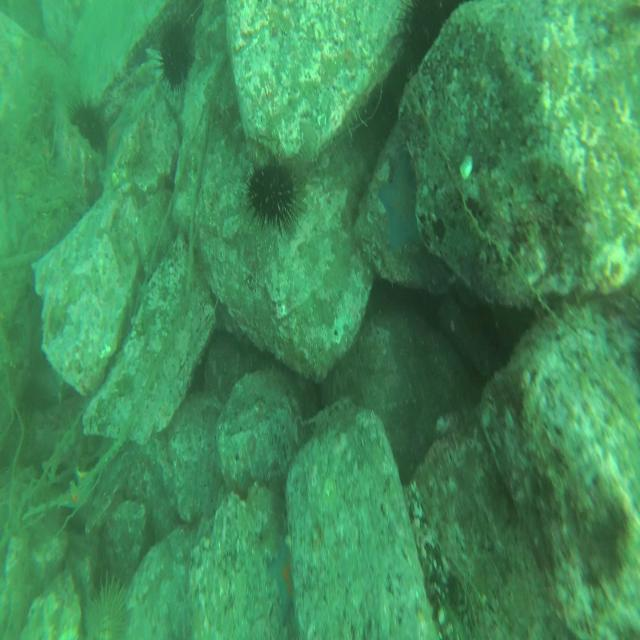echinus: (240, 136, 308, 242), (84, 567, 134, 640), (153, 14, 197, 94), (67, 92, 110, 160)
holothurian: (587, 351, 639, 429)
starfish: (379, 149, 425, 253), (268, 542, 297, 626)
